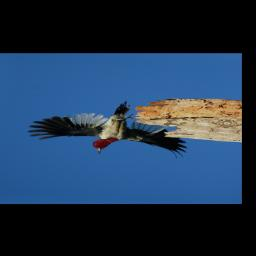Woodpecker: (22, 94, 199, 160)
